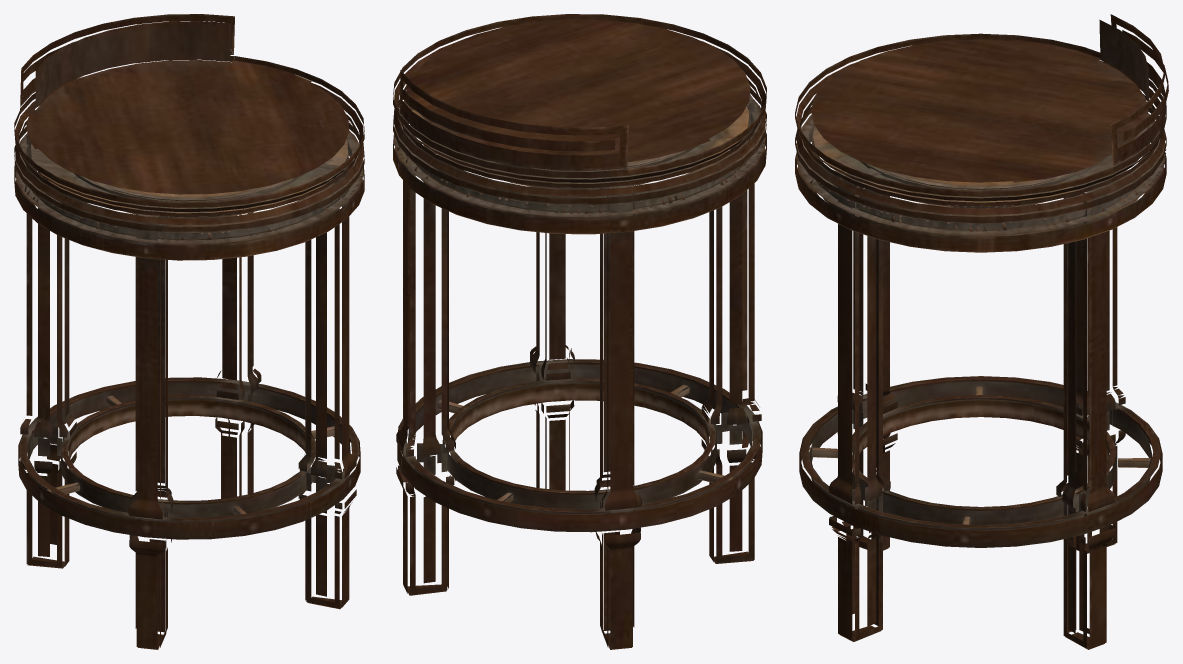
Rendered from ph_bar_chair_round_01.glb.
3 views of the same model, side by side, from view 1: azimuth 30°, elevation 25°; view 2: azimuth 150°, elevation 25°; view 3: azimuth 270°, elevation 25° (orthographic). The views are drawn at different scales.
Visible parts, largest first — view 1: bar_chair_round_01; view 2: bar_chair_round_01; view 3: bar_chair_round_01.
Boxes of the visible parts, x1=… form: bar_chair_round_01: x1=14, y1=14, x2=364, y2=649; bar_chair_round_01: x1=393, y1=14, x2=766, y2=649; bar_chair_round_01: x1=795, y1=14, x2=1168, y2=649.
Bounding box in the file's own units: 0.4832 × 0.7494 × 0.486.
1 material, 1 textured.
